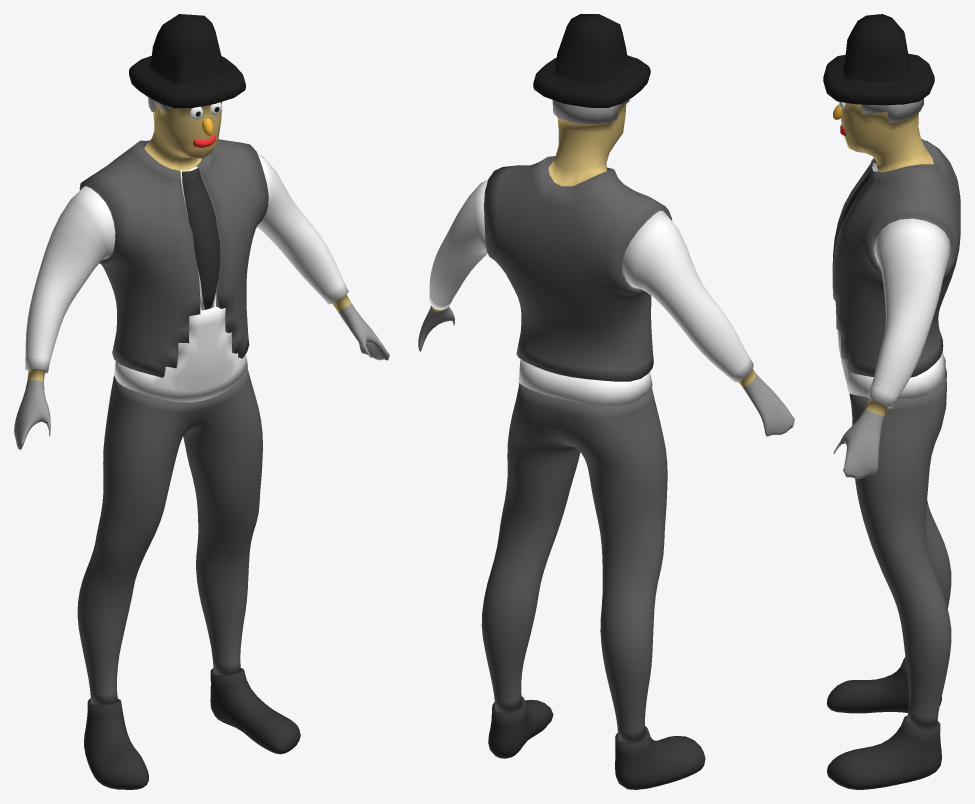
File: Karakter5.fbx
3 renders of one model, left to right at view 1: azimuth 30°, elevation 25°; view 2: azimuth 150°, elevation 25°; view 3: azimuth 270°, elevation 25°, orthographic.
Parts seen in each view (by area): view 1: male_zbrush; view 2: male_zbrush; view 3: male_zbrush.
Boxes of the visible parts, bbox=[...] form: male_zbrush: bbox=[14, 14, 389, 789]; male_zbrush: bbox=[418, 14, 794, 789]; male_zbrush: bbox=[823, 14, 960, 789].
Size of the model in its own units: 157 by 300 by 51.39.
1 material, 1 textured.
